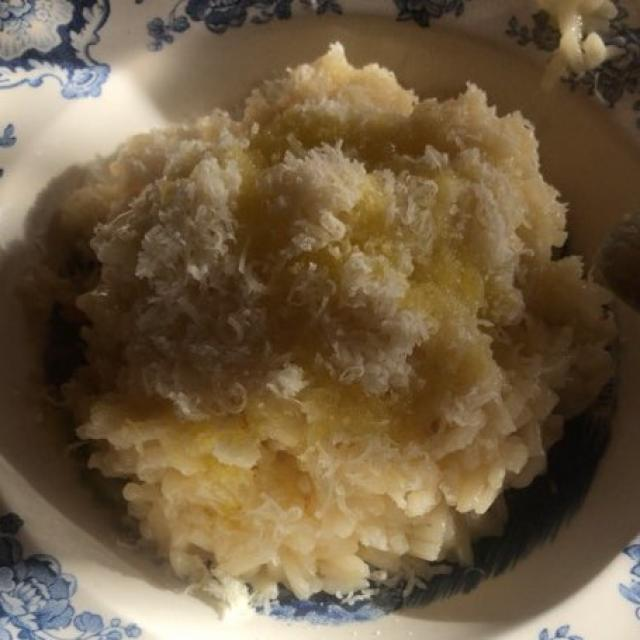cheese: (18, 51, 639, 626)
pasta: (30, 57, 617, 593)
